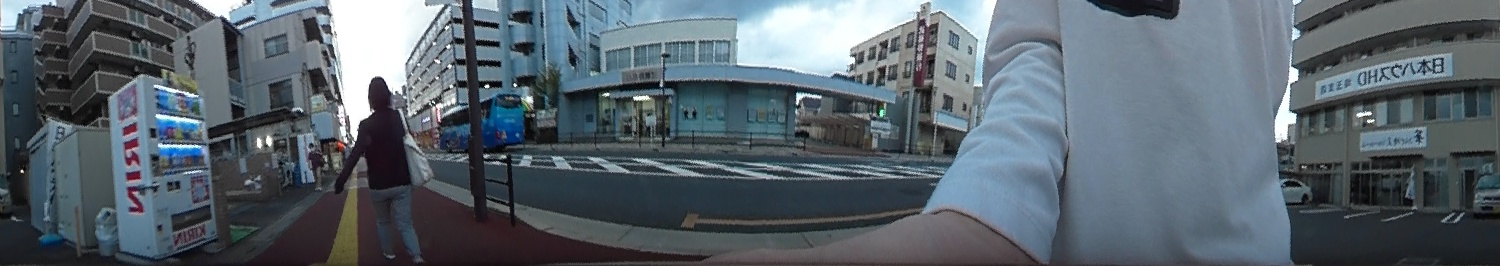difficult_person: (304, 141, 326, 188)
person: (336, 73, 431, 260)
